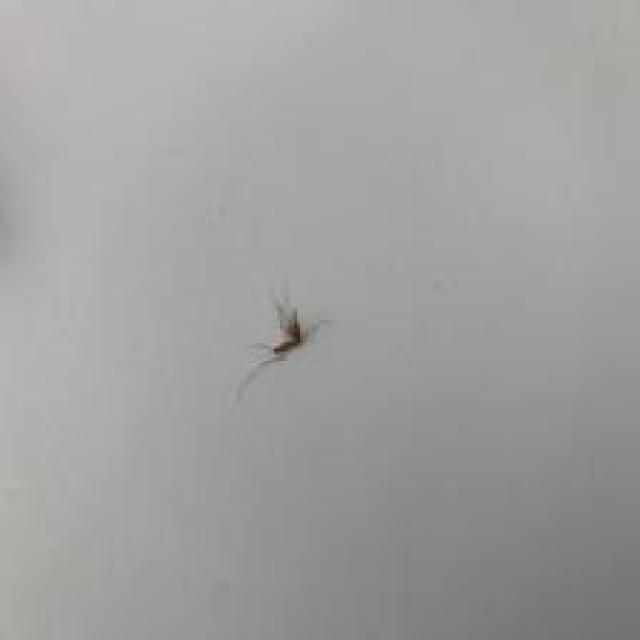Culex: (232, 282, 332, 402)
